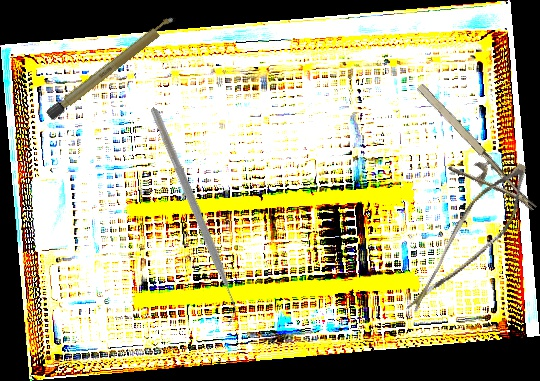Chopper: (75, 106, 307, 327)
Micro Scissor: (404, 147, 537, 337)
Needle Holder: (395, 79, 537, 235)
Scalpel Handle: (45, 13, 179, 121)
